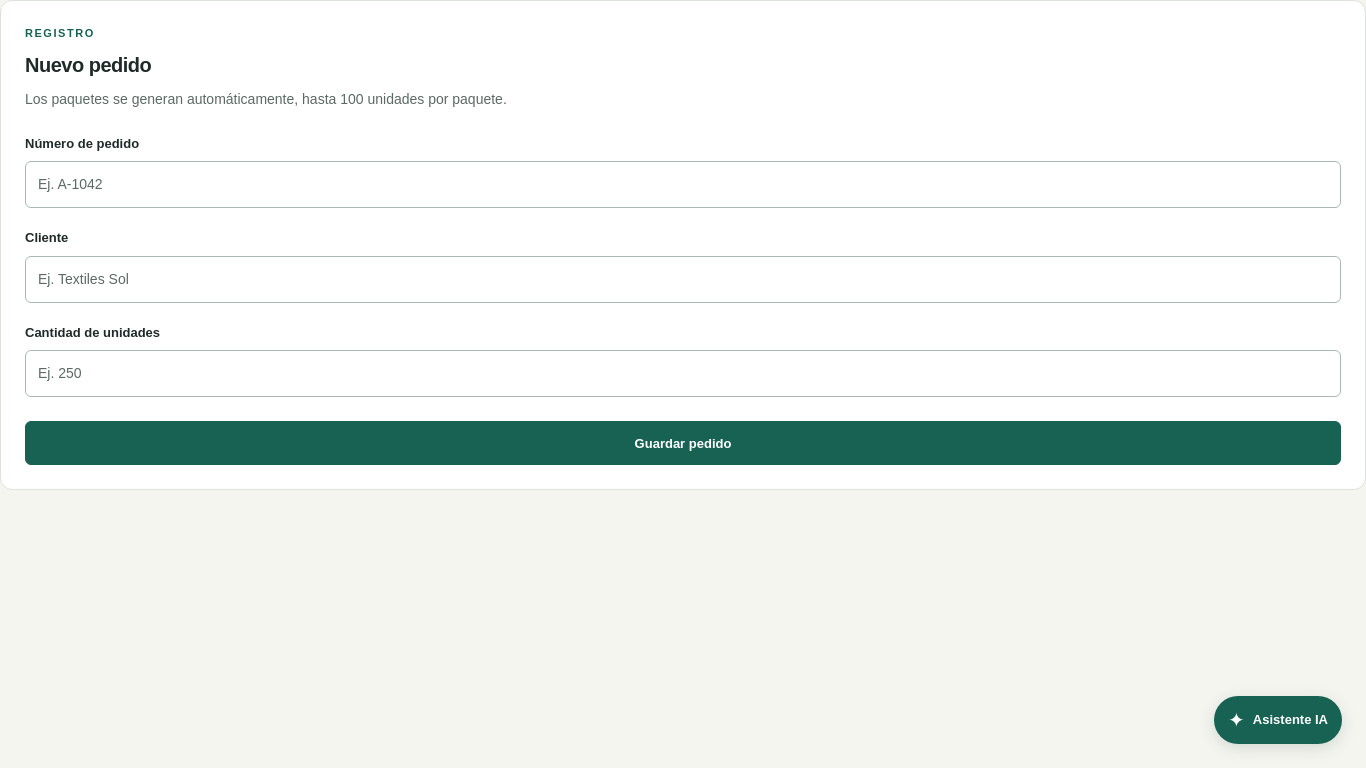
Test case: OrderForm › CA-07: sitúa fieldErrors del servidor bajo el campo correcto y permite corregirlos
Type "A-1" into the field labelled "Número de pedido" at coordinates (683, 185), box [25,161,1341,208]
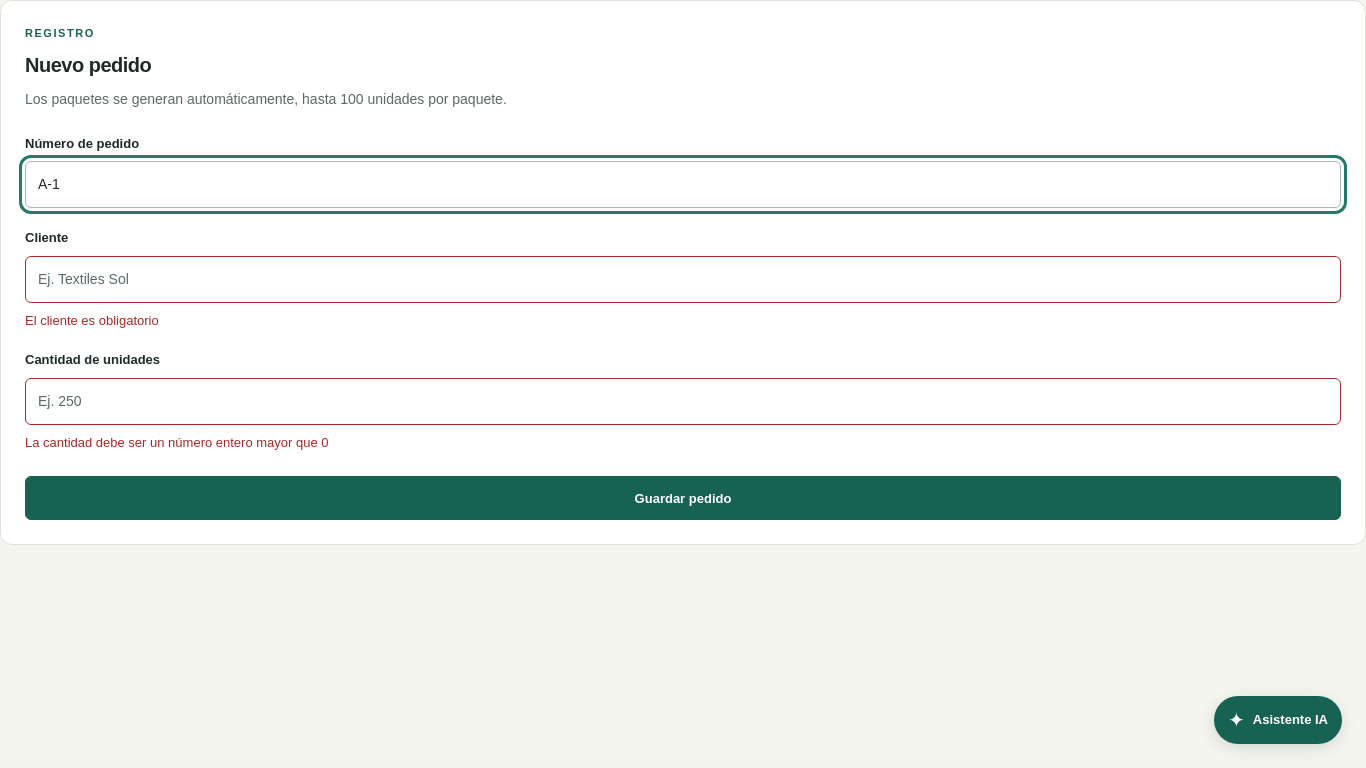
Type "Textiles Sol" into the field labelled "Cliente" at coordinates (683, 279), box [25,256,1341,303]
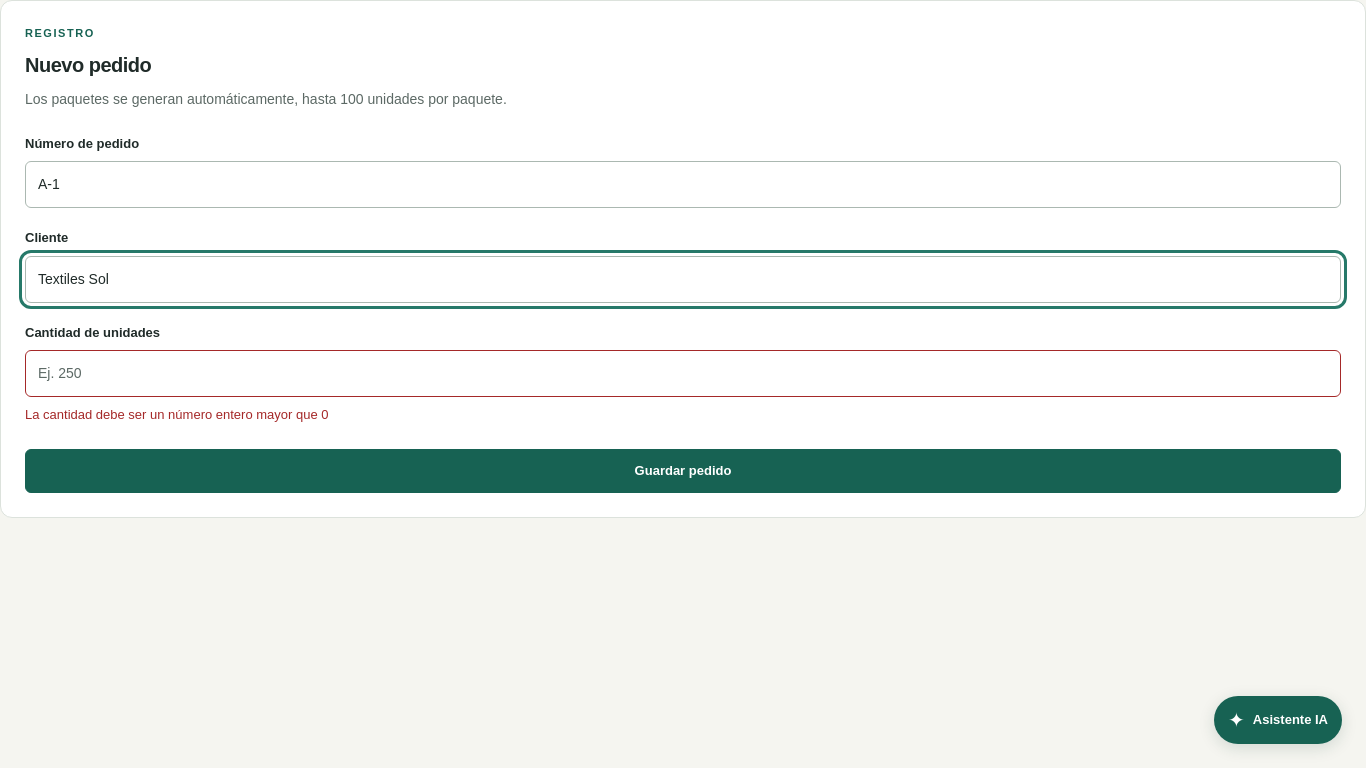
Type "250" into the field labelled "Cantidad de unidades" at coordinates (683, 374), box [25,350,1341,397]
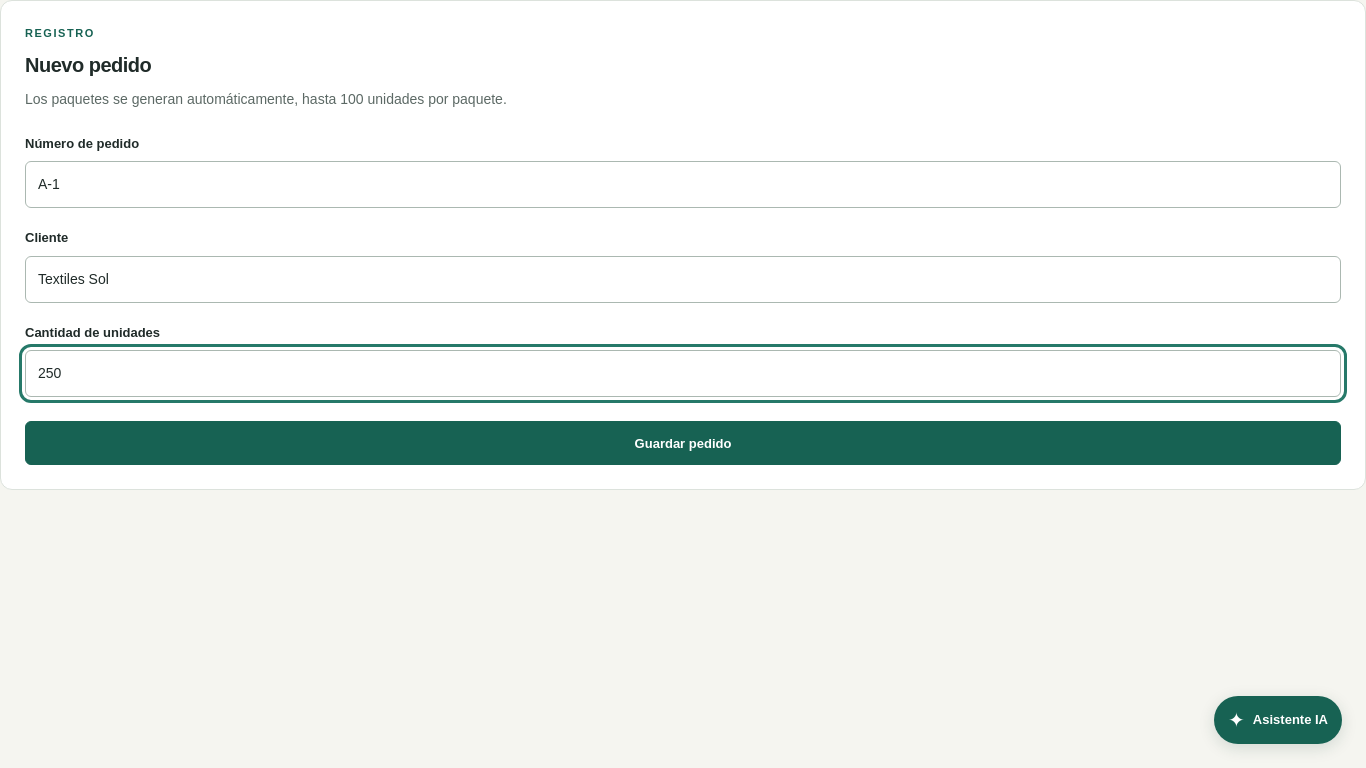
Click the button "Guardar pedido" at coordinates (683, 443), box [25,421,1341,465]
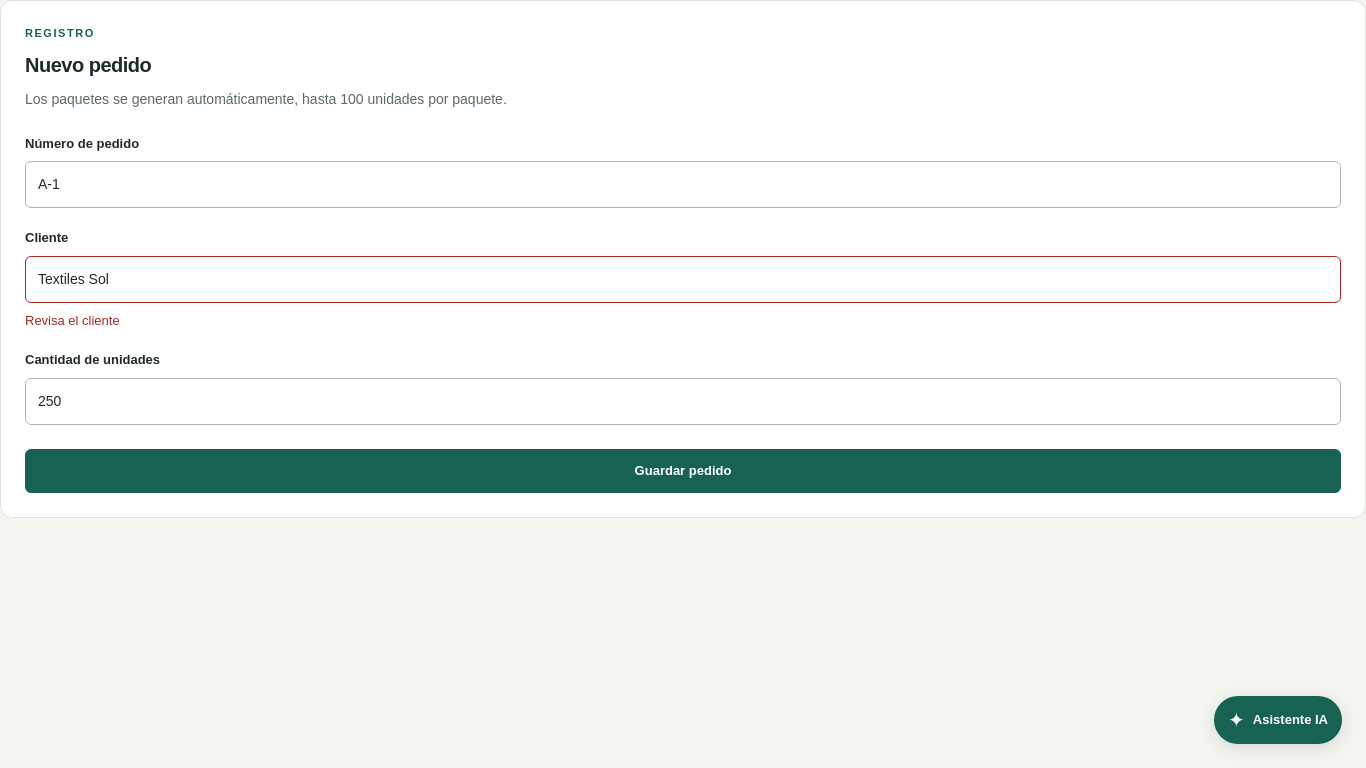
Type "2" into the field labelled "Cliente" at coordinates (683, 279), box [25,256,1341,303]
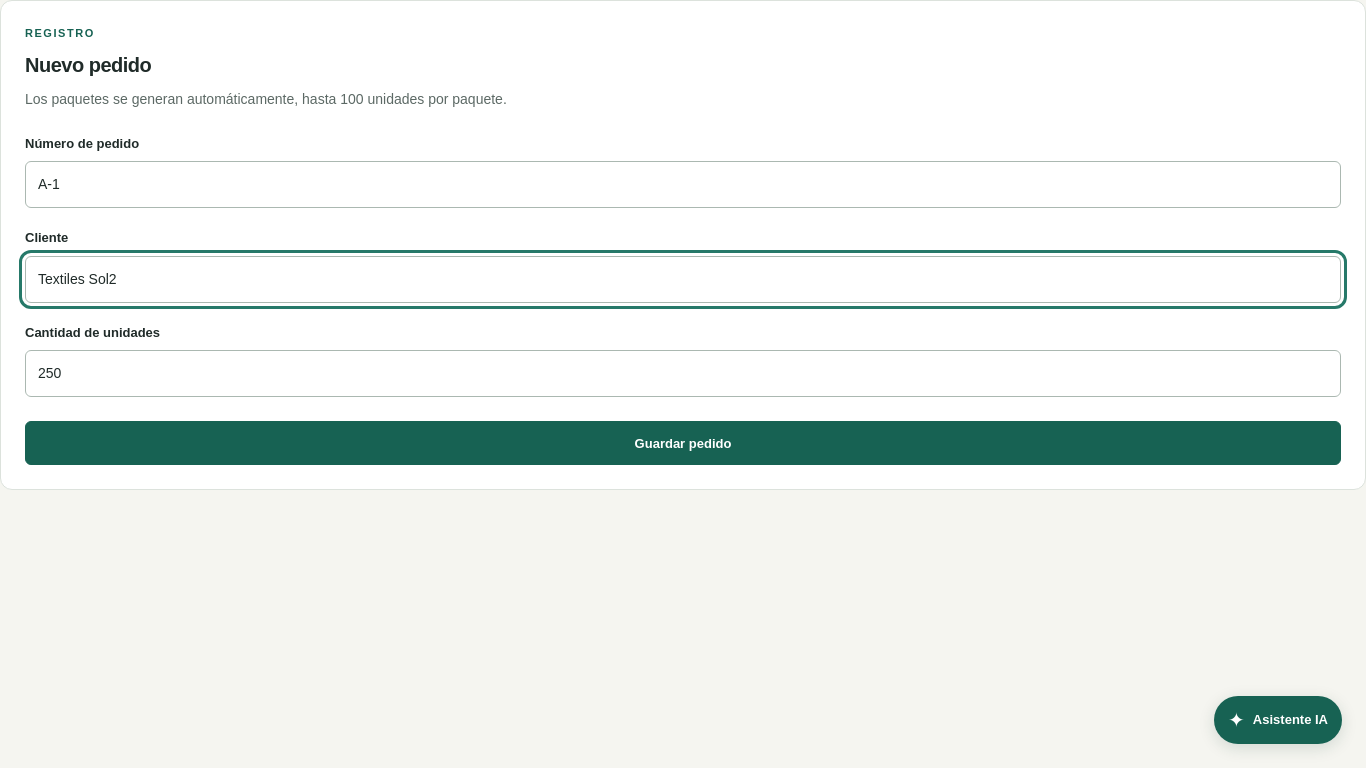
Expected: the text "Revisa el cliente" is gone
